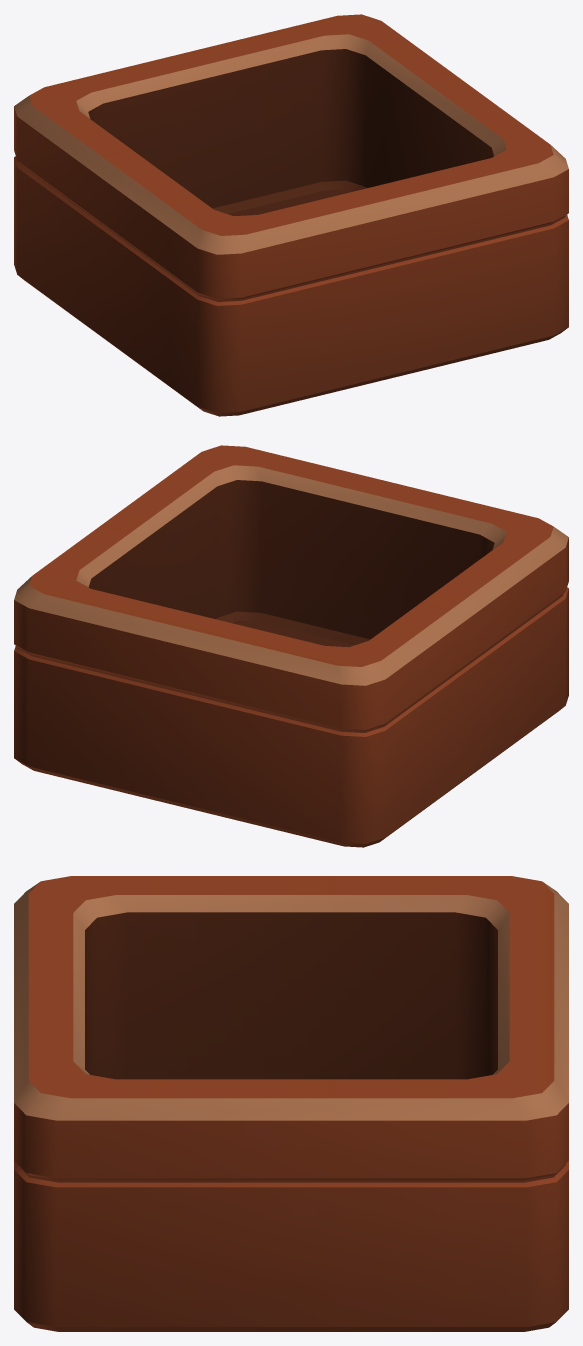
File: Mdl_Box_Brown.fbx
3 views of the same model, one above another, from view 1: azimuth 30°, elevation 25°; view 2: azimuth 150°, elevation 25°; view 3: azimuth 270°, elevation 25° (orthographic). The views are drawn at different scales.
Parts seen in each view (by area): view 1: Mesh_Box; view 2: Mesh_Box; view 3: Mesh_Box.
Boxes of the visible parts, x1=… form: Mesh_Box: x1=14, y1=14, x2=568, y2=416; Mesh_Box: x1=14, y1=445, x2=568, y2=847; Mesh_Box: x1=14, y1=876, x2=568, y2=1331.
Size of the model in its own units: 520 by 239 by 520.
